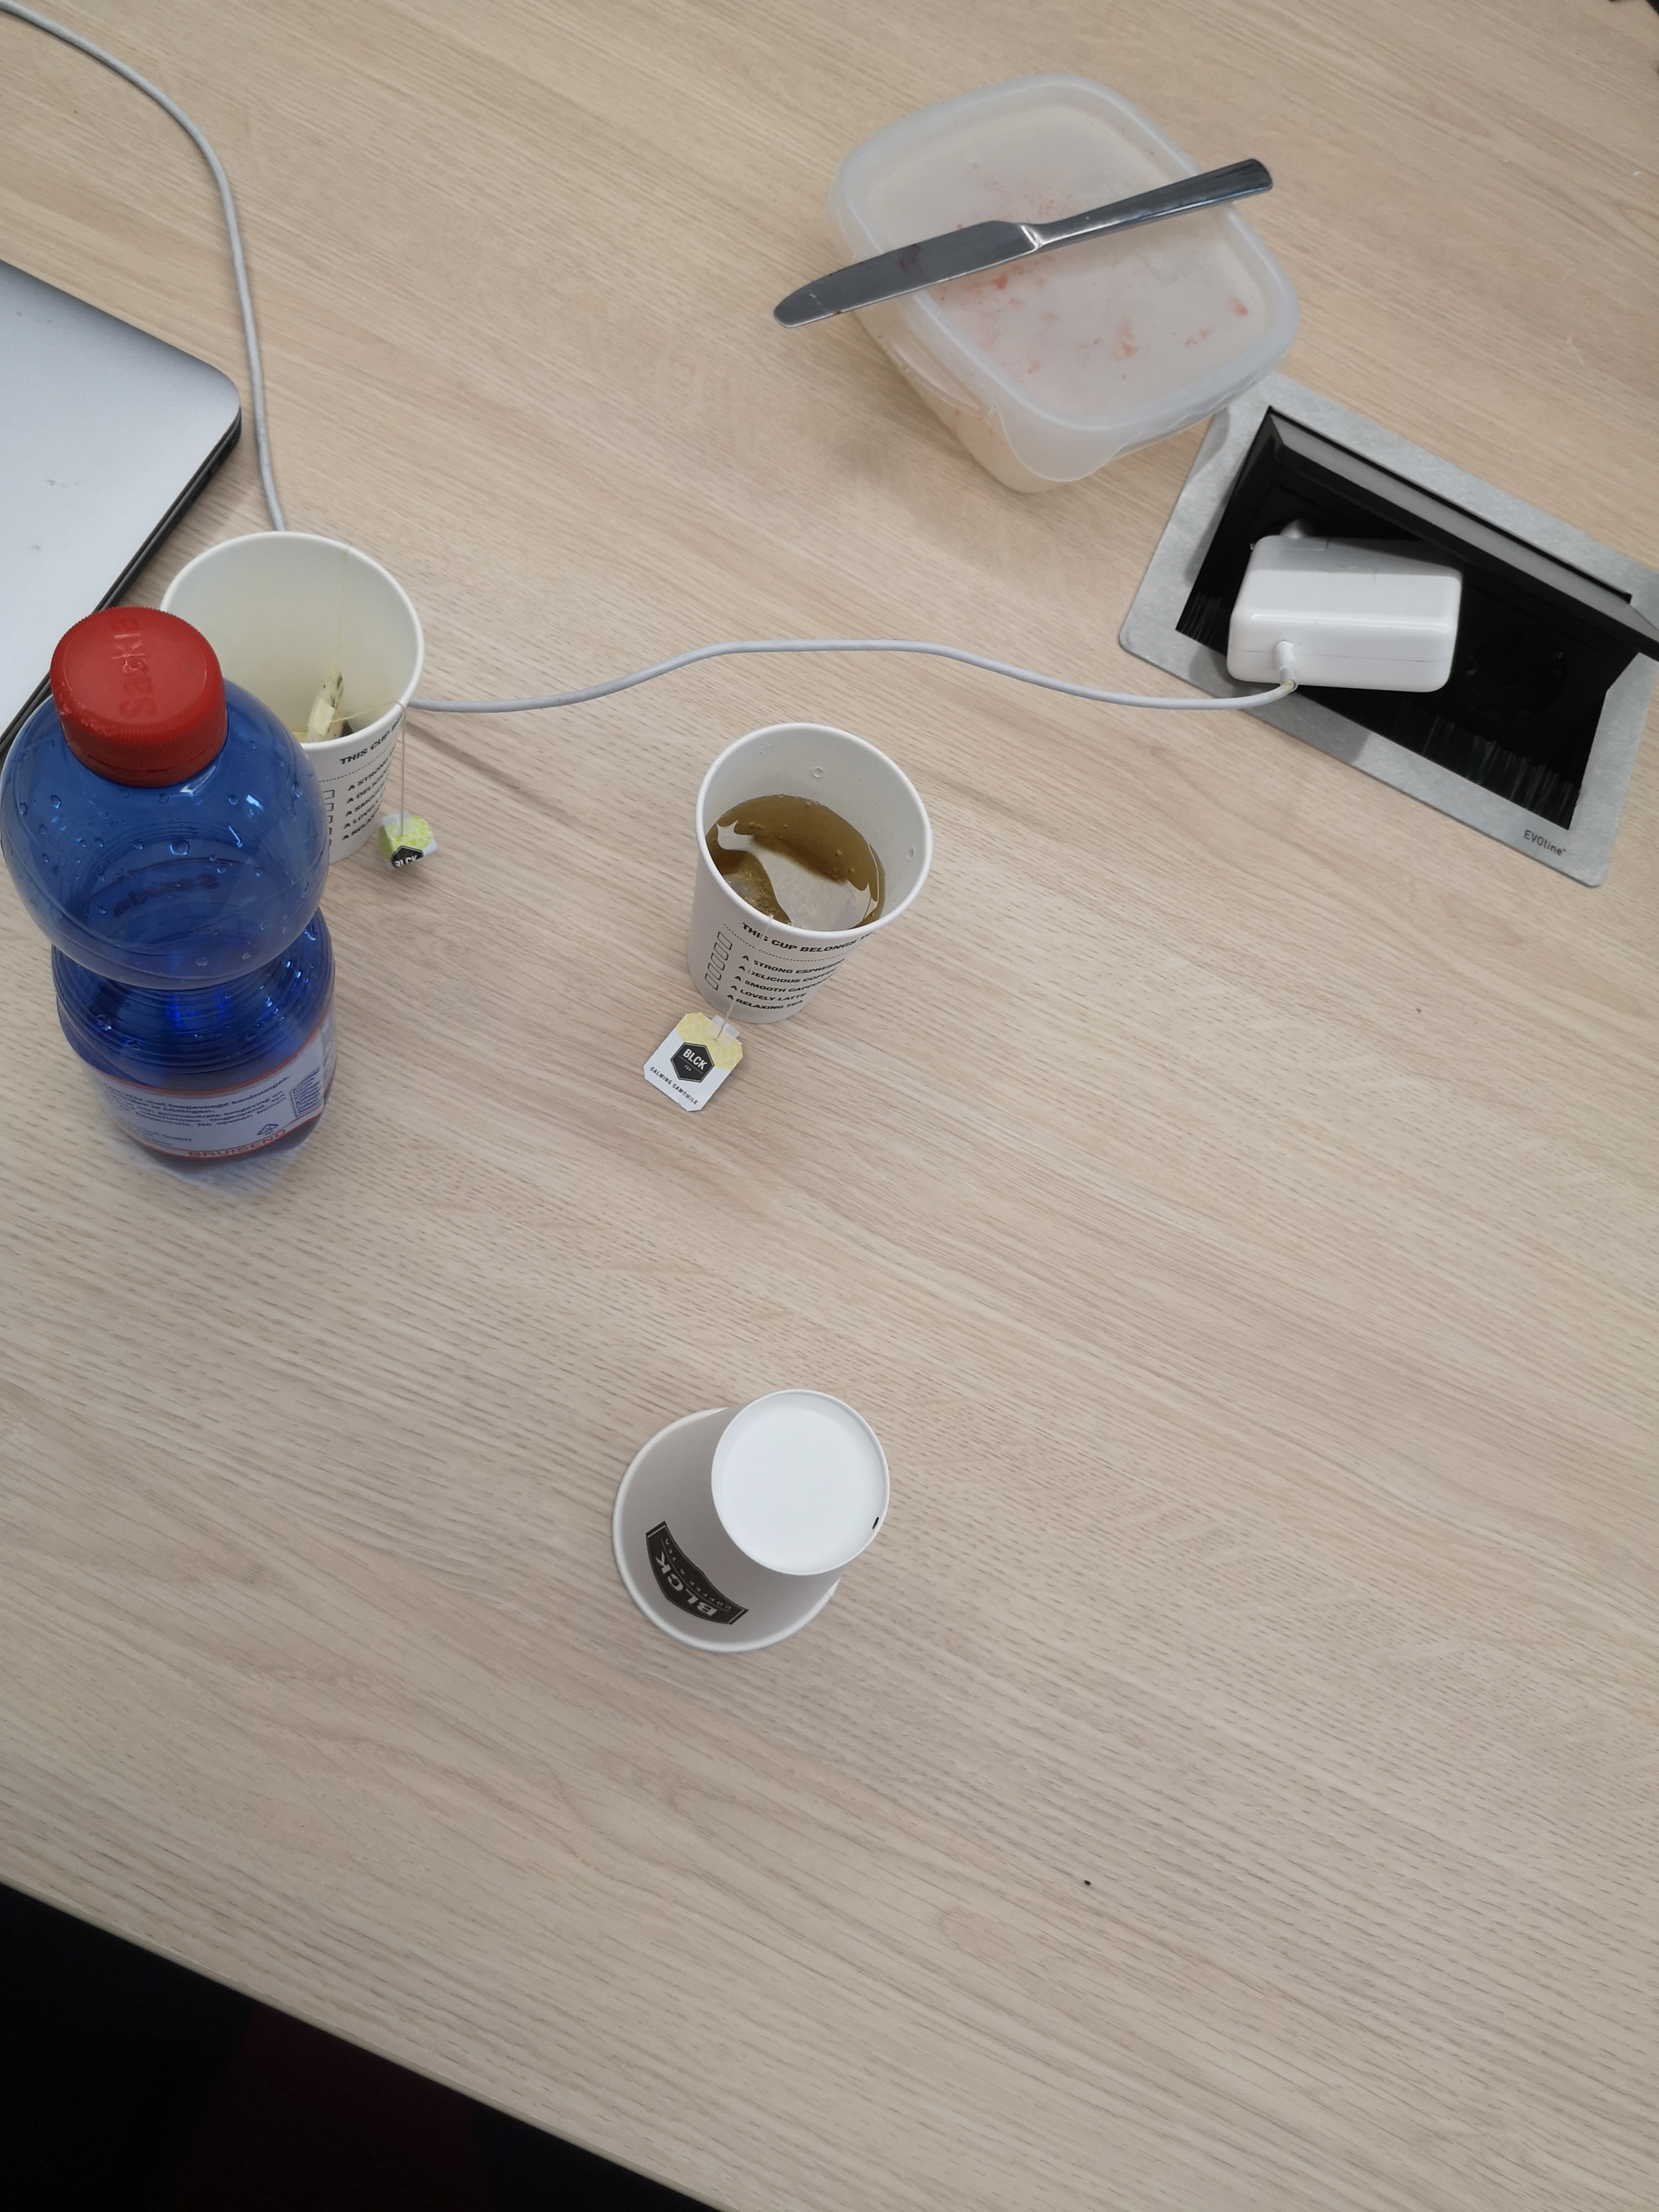cup: (653, 695, 965, 1055), (603, 1366, 925, 1674), (159, 528, 453, 772)
plastic_bottle: (0, 597, 361, 1184)
